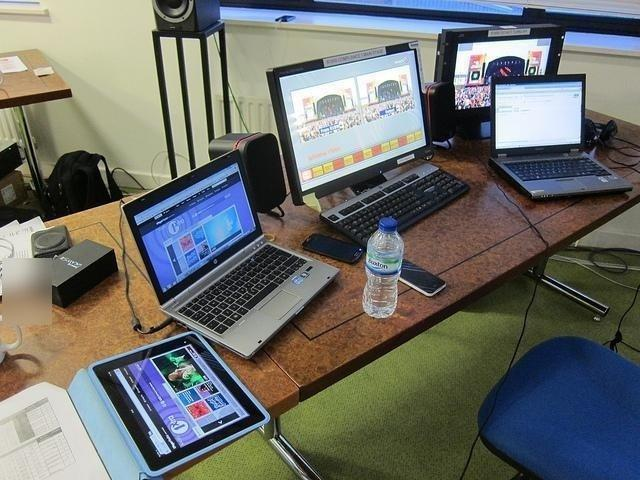bottle-plastic: (362, 217, 402, 319)
